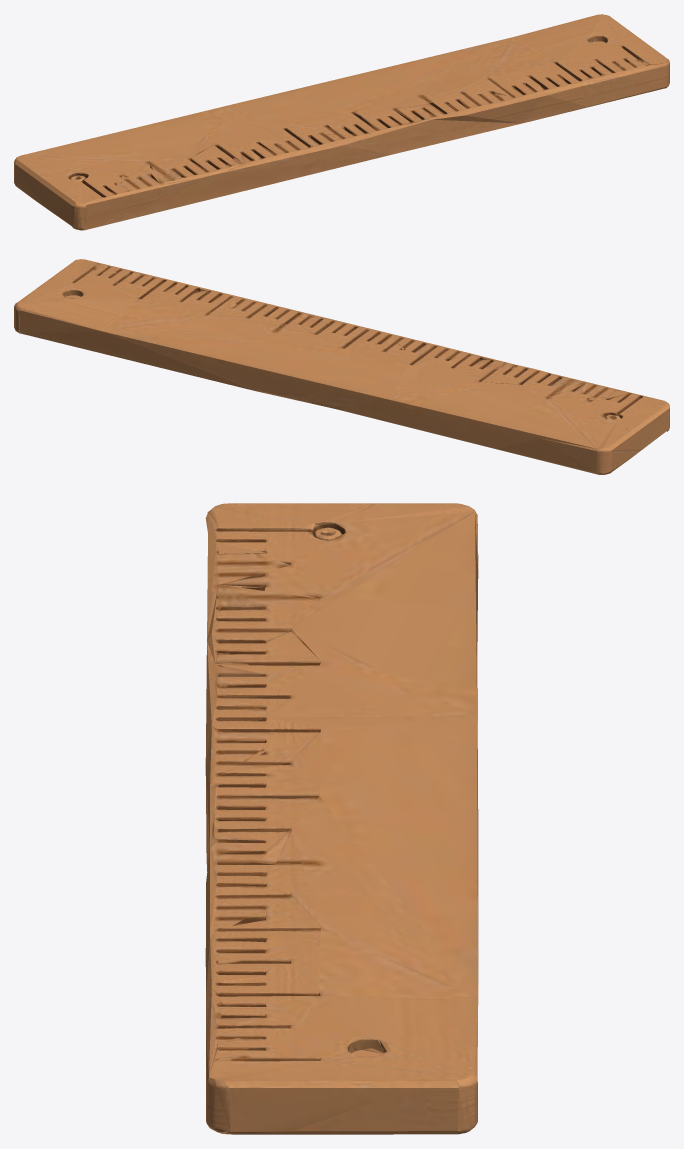
The model's file is ruler.glb.
The picture shows the model from 3 angles, top to bottom: view 1: azimuth 30°, elevation 25°; view 2: azimuth 150°, elevation 25°; view 3: azimuth 270°, elevation 25°; orthographic projection. The views are drawn at different scales.
Parts seen in each view (by area): view 1: output_unwrapped; view 2: output_unwrapped; view 3: output_unwrapped.
Part boxes in pixels (x1,y1,x2,y2): output_unwrapped: (14, 14, 669, 230); output_unwrapped: (14, 259, 669, 474); output_unwrapped: (205, 503, 478, 1134).
Bounding box in the file's own units: 1.9 × 0.0829 × 0.3762.
Materials: 1 (1 with a texture image).
